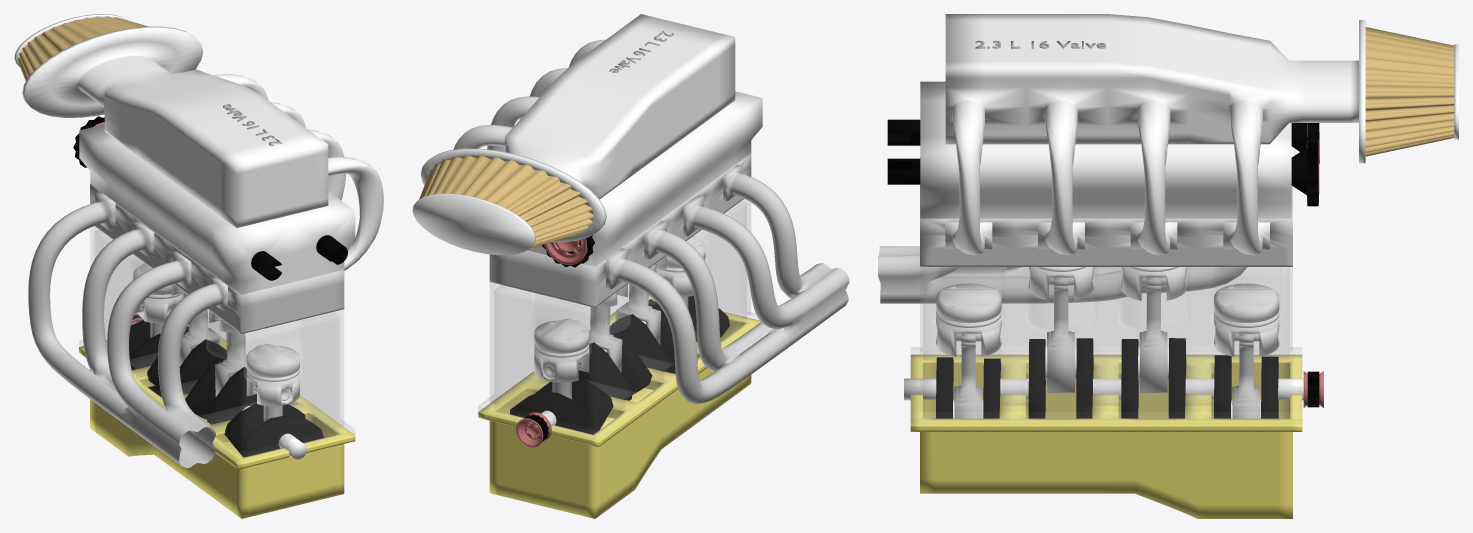
Rendered from asset.glb.
3 views of the same model, side by side, from view 1: azimuth 30°, elevation 25°; view 2: azimuth 150°, elevation 25°; view 3: azimuth 270°, elevation 25° (orthographic). The views are drawn at different scales.
Parts seen in each view (by area): view 1: intake, block, exhaust, valve cover, oil pan, head, crank 1, piston 1, air filter, crank 2, crank 3, crank 4 (+6 smaller); view 2: intake, block, exhaust, oil pan, valve cover, air filter, head, piston 4, crank 4, crank 3, crank 2, rod piston 4.001 (+5 smaller); view 3: intake, block, oil pan, valve cover, head, air filter, exhaust, piston 1, piston 4, crank 3, crank 2, rod piston 4.001 (+14 smaller).
Boxes of the visible parts, x1,y1,x2,y2 form: intake: (14,14,383,270); block: (79,226,354,462); exhaust: (28,191,227,467); valve cover: (79,124,355,294); oil pan: (79,325,355,518); head: (90,184,344,333); crank 1: (224,403,323,457); piston 1: (246,343,299,406); air filter: (18,16,147,80); crank 2: (185,353,256,424); crank 3: (147,326,226,394); crank 4: (129,320,161,397); intake: (412,14,735,255); block: (478,199,760,440); exhaust: (606,165,849,404); oil pan: (478,295,760,518); valve cover: (527,91,762,266); air filter: (419,155,594,247); head: (489,153,751,307); piston 4: (534,318,589,382); crank 4: (510,378,613,434); crank 3: (578,327,652,400); crank 2: (610,299,674,372); rod piston 4.001: (589,290,622,372); intake: (945,14,1458,255); block: (911,267,1301,424); oil pan: (910,354,1302,518); valve cover: (920,81,1291,218); head: (920,157,1292,266); air filter: (1365,27,1454,156); exhaust: (878,246,1246,303); piston 1: (936,283,1001,356); piston 4: (1214,283,1279,356); crank 3: (1121,338,1186,418); crank 2: (1028,338,1093,418); rod piston 4.001: (1139,277,1167,392).
Bounding box in the file's own units: 14.7 × 21.33 × 25.08.
